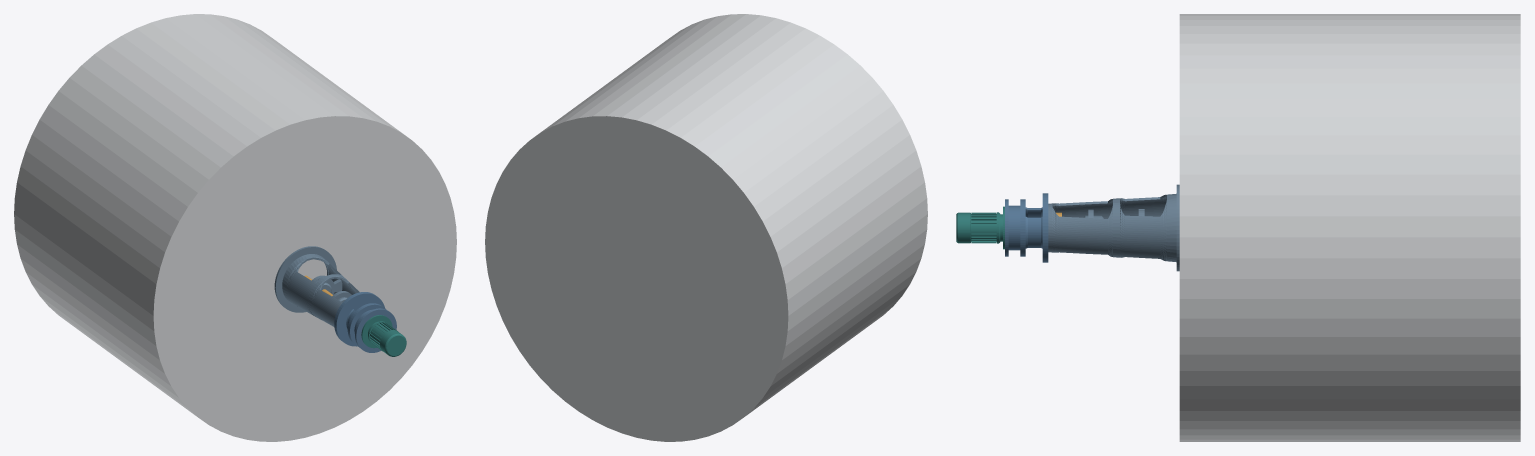
3 views of the same model, side by side, from view 1: azimuth 30°, elevation 25°; view 2: azimuth 150°, elevation 25°; view 3: azimuth 270°, elevation 25° (orthographic). The views are drawn at different scales.
Parts seen in each view (by area): view 1: Equipment, 06_Tapered_window_frame_with_bored_seats, 01_Motor, 06_Frame_foot, 02_Base_flange_top, 02_Upper_mount_flange; view 2: Equipment; view 3: Equipment, 06_Tapered_window_frame_with_bored_seats, 01_Motor, 02_Upper_housing, 02_Lower_housing_1.
Boxes of the visible parts, box(x1,y1,x2,y2) form: Equipment: box(14, 14, 456, 441); 06_Tapered_window_frame_with_bored_seats: box(282, 254, 359, 326); 01_Motor: box(361, 315, 406, 356); 06_Frame_foot: box(274, 246, 336, 312); 02_Base_flange_top: box(335, 292, 384, 346); 02_Upper_mount_flange: box(355, 308, 396, 352); Equipment: box(485, 14, 927, 441); Equipment: box(1179, 14, 1520, 441); 06_Tapered_window_frame_with_bored_seats: box(1048, 193, 1176, 262); 01_Motor: box(956, 206, 1004, 249); 02_Upper_housing: box(1008, 205, 1020, 250); 02_Lower_housing_1: box(1025, 217, 1042, 248).
Size of the model in its own units: 5.9 by 5.9 by 7.78.
